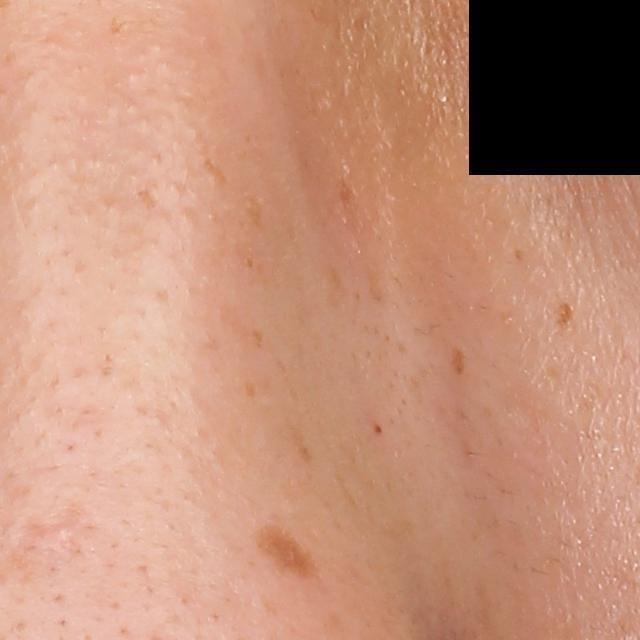melasma: (254, 519, 316, 583), (234, 189, 269, 231), (198, 151, 237, 186), (333, 176, 361, 214), (551, 299, 576, 332), (450, 342, 469, 378)
